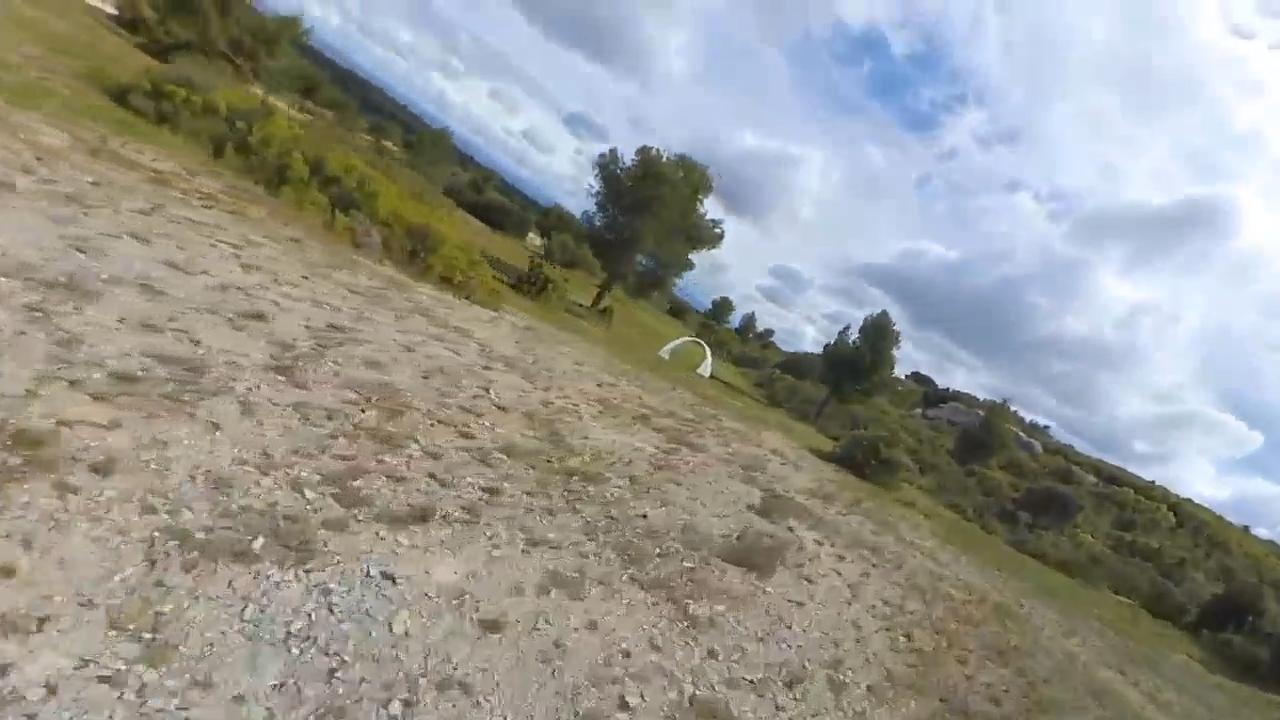gate: (655, 334, 711, 379)
